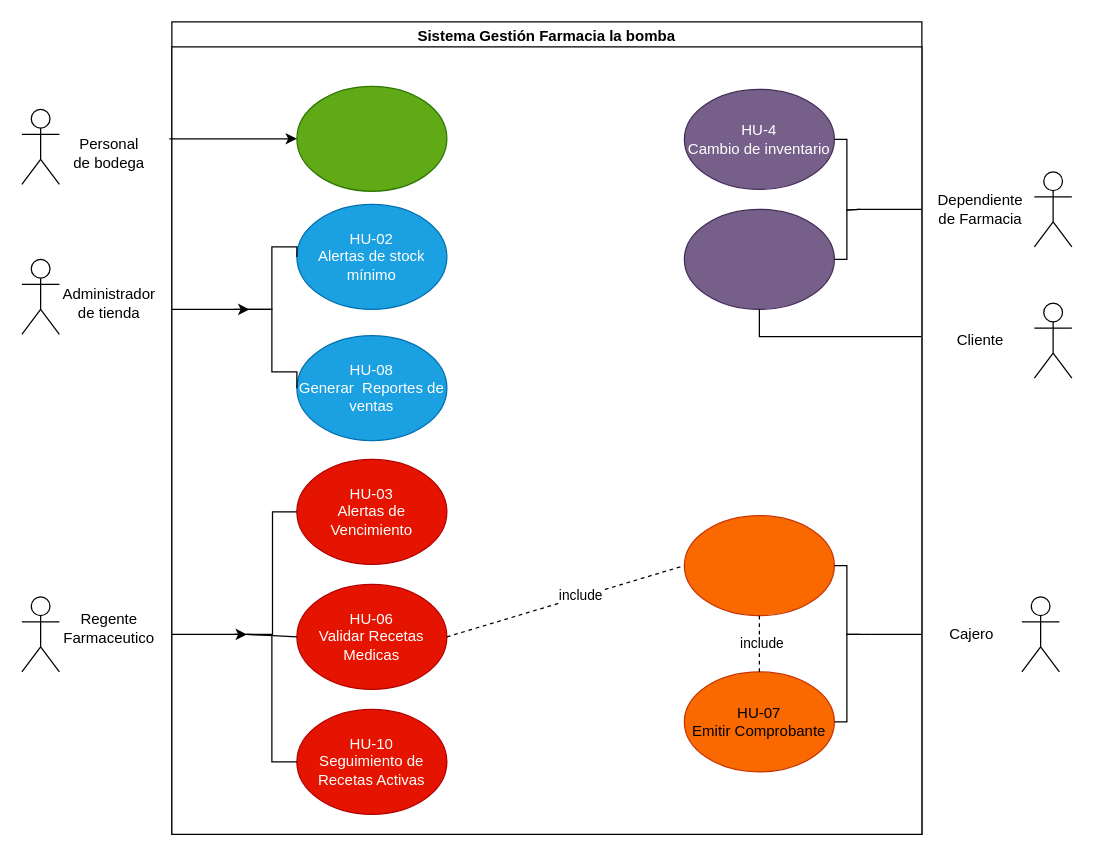
Image size: 1094x856. Some labels were removed from this diagram. The centre of each missing label's shape, as x and y in pixels:
"HU-01 Registrar entrada de productos" goes at point 371,138.
"HU-05 Registrar Ventas" goes at point 758,565.
"HU-09 Consulta del historial de compras" goes at point 758,258.
